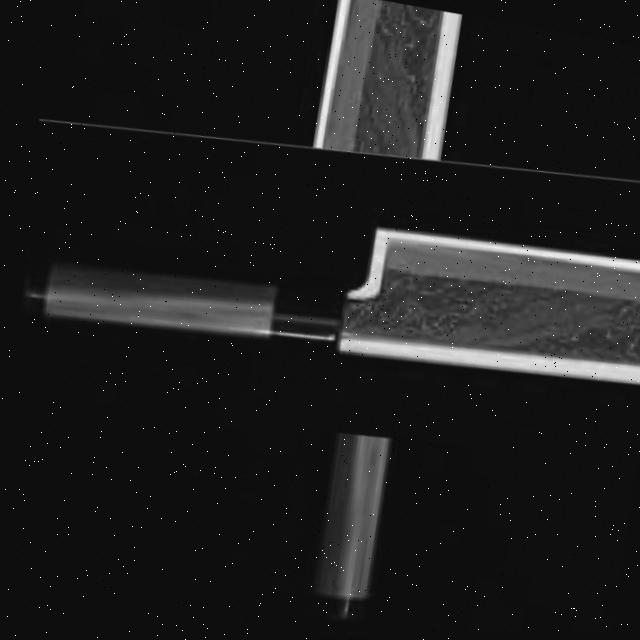knife: (5, 143, 640, 434), (210, 0, 489, 636)
